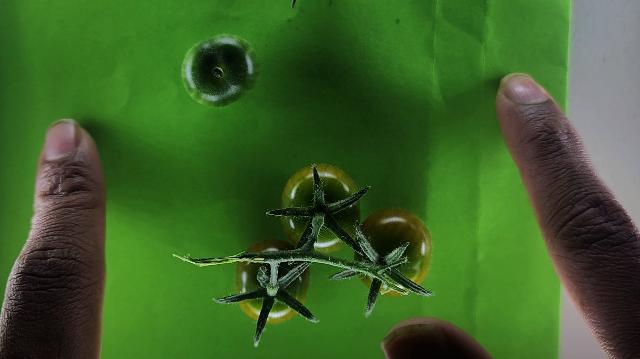Fruit Bud: (266, 283, 279, 296)
Fruit Maturation: (179, 32, 262, 108)
Fully Grown: (279, 163, 363, 252), (352, 208, 432, 297), (235, 240, 310, 324)
